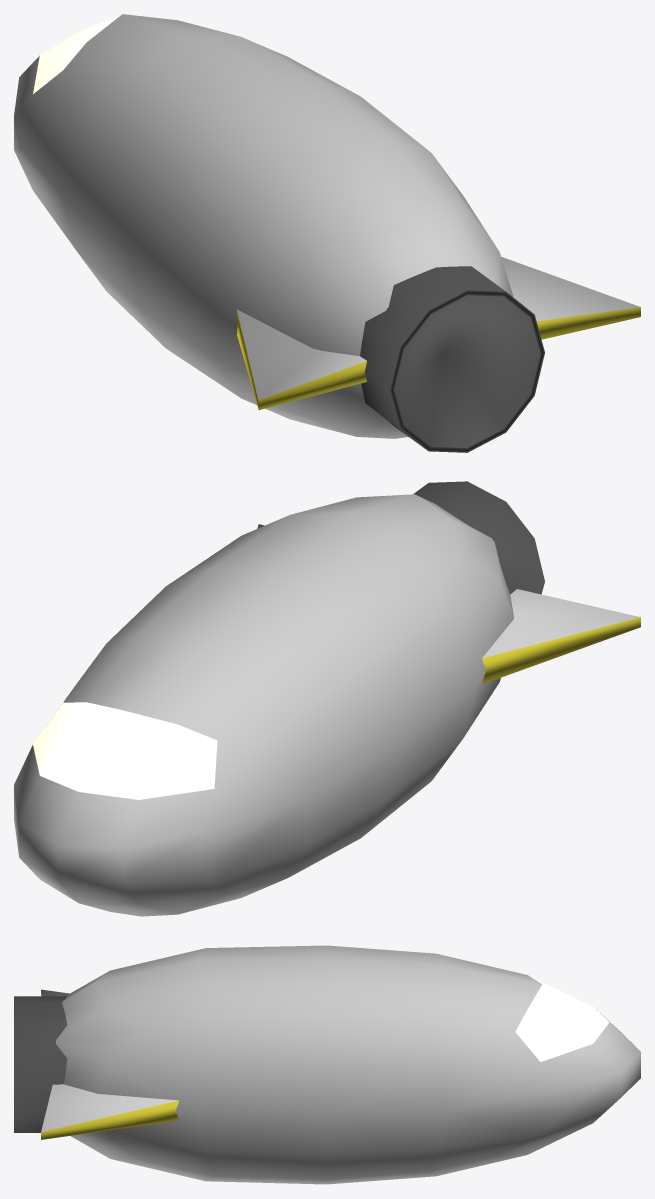
Rendered from EscapePod.fbx.
The picture shows the model from 3 angles, top to bottom: view 1: azimuth 30°, elevation 25°; view 2: azimuth 150°, elevation 25°; view 3: azimuth 270°, elevation 25°; orthographic projection. The views are drawn at different scales.
Parts seen in each view (by area): view 1: EscapePod; view 2: EscapePod; view 3: EscapePod.
Part boxes in pixels (<box>): EscapePod: <box>14,14,640,452</box>; EscapePod: <box>14,481,640,916</box>; EscapePod: <box>14,945,640,1184</box>.
Size of the model in its own units: 108 by 74.74 by 201.
